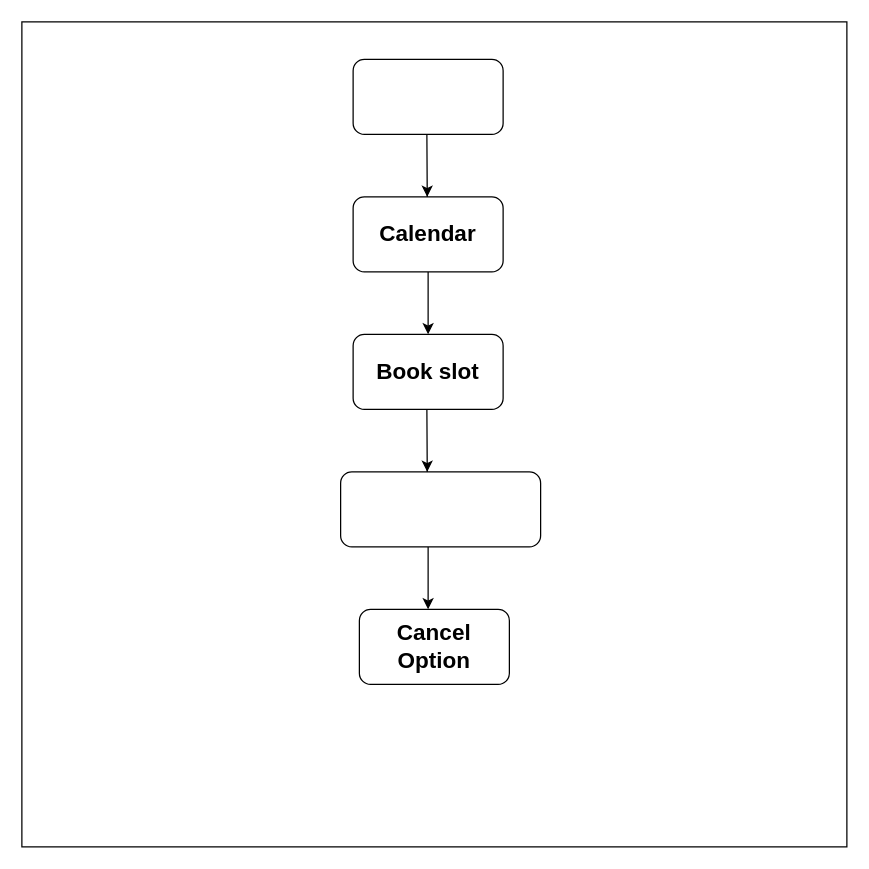
The diagram is 869 pixels wide and 869 high, and some of its shapes have lost their labels. The shapes that lost their labels are listed below. From the top down, each one's centre as x and y in pixels, then its label:
[427,96]: Doctor List
[440,509]: Appointment Confirmation
